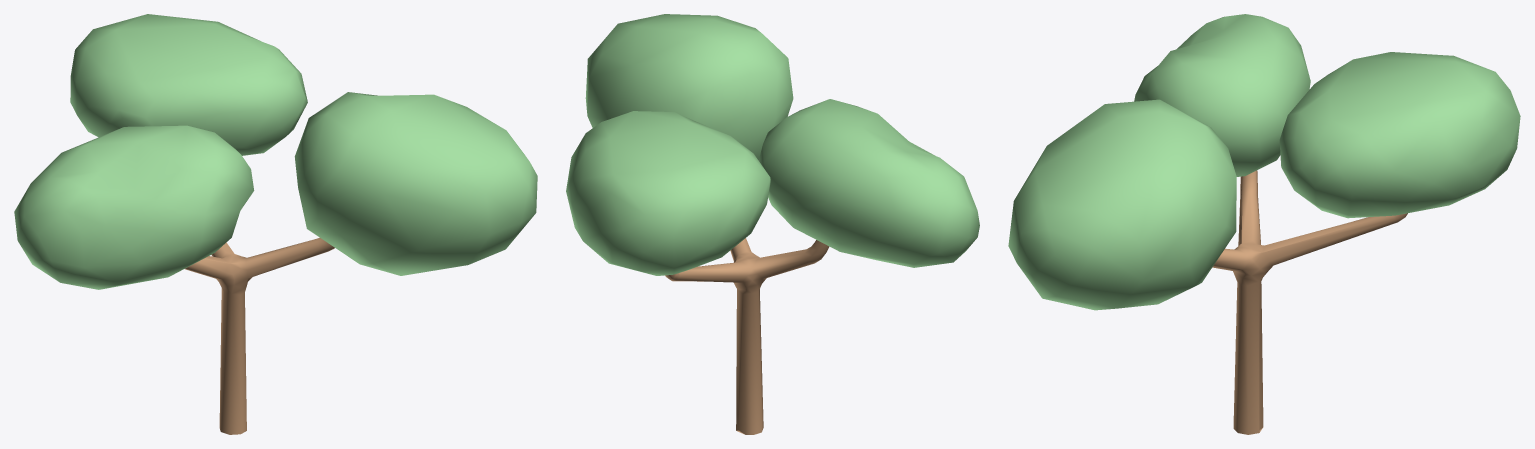
File: Tree A.fbx
3 renders of one model, left to right at view 1: azimuth 30°, elevation 25°; view 2: azimuth 150°, elevation 25°; view 3: azimuth 270°, elevation 25°, orthographic. The views are drawn at different scales.
Parts seen in each view (by area): view 1: Tree A; view 2: Tree A; view 3: Tree A.
Boxes of the visible parts, x1,y1,x2,y2 form: Tree A: (14,14,537,434); Tree A: (566,14,979,434); Tree A: (1008,14,1520,434).
Size of the model in its own units: 440 by 329 by 418.
